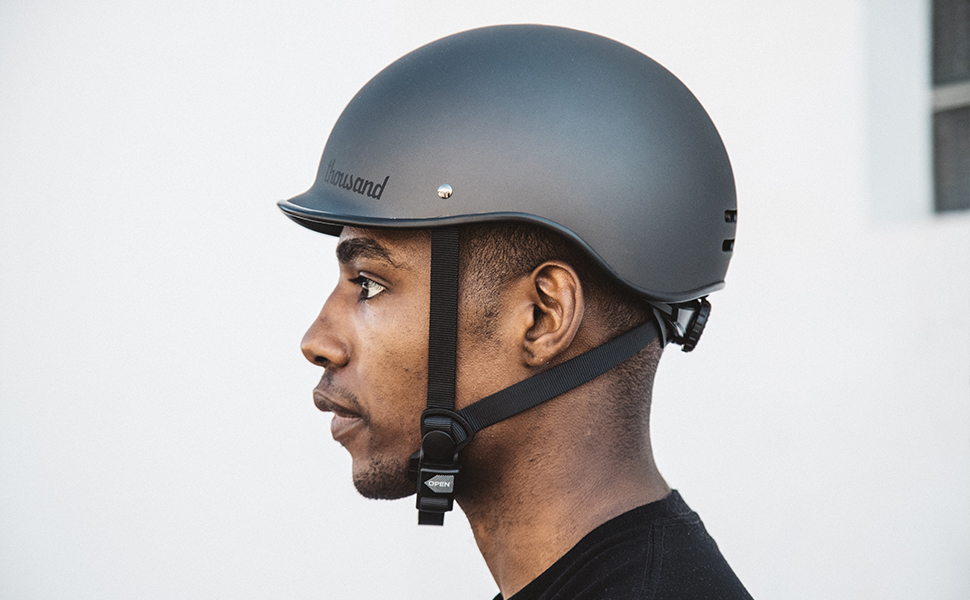helmet: (277, 24, 738, 500)
